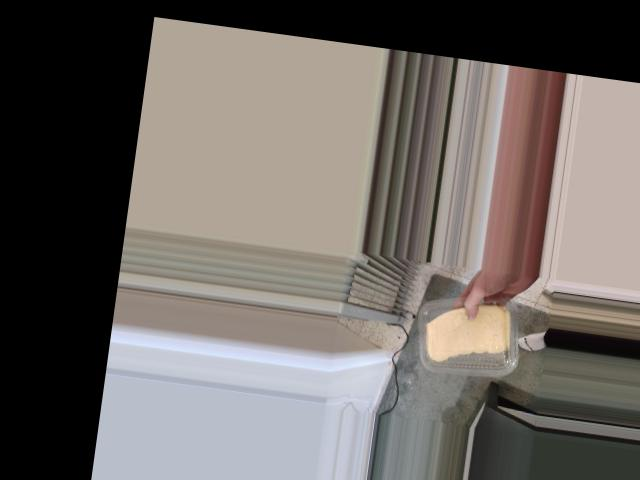cheese: (414, 289, 524, 375)
